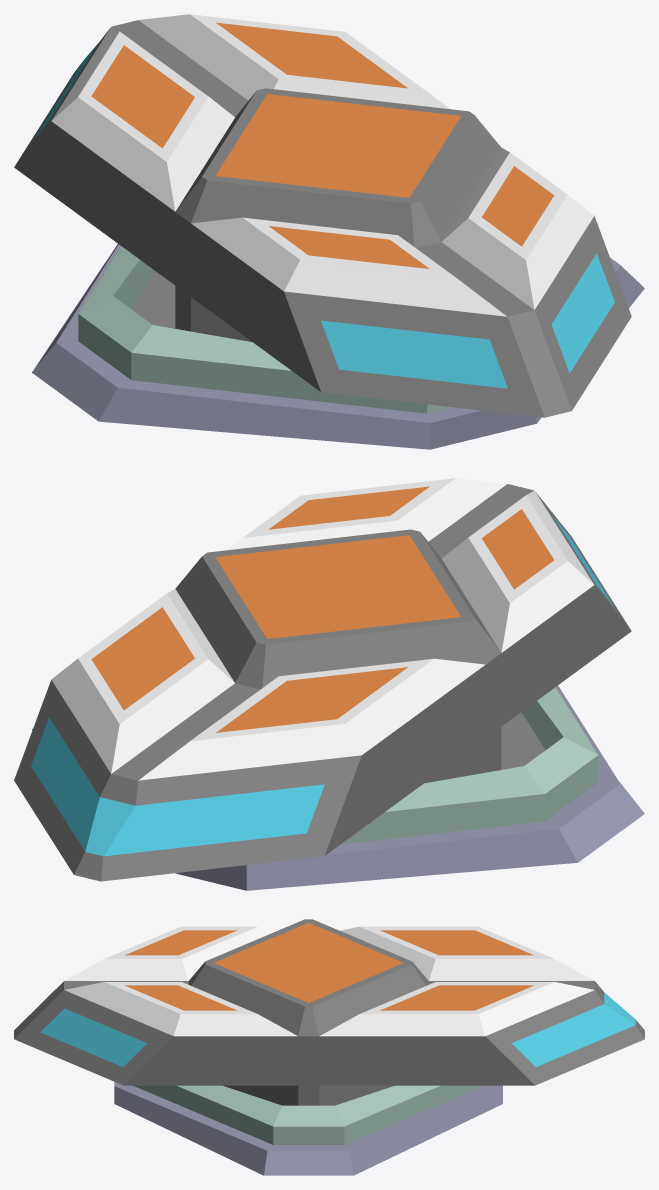
The model's file is Speedbooster.fbx.
3 views of the same model, one above another, from view 1: azimuth 30°, elevation 25°; view 2: azimuth 150°, elevation 25°; view 3: azimuth 270°, elevation 25° (orthographic). The views are drawn at different scales.
Parts seen in each view (by area): view 1: Cube.001; view 2: Cube.001; view 3: Cube.001.
Boxes of the visible parts, x1=… form: Cube.001: x1=14, y1=14, x2=644, y2=449; Cube.001: x1=14, y1=478, x2=644, y2=890; Cube.001: x1=14, y1=919, x2=644, y2=1175.
Bounding box in the file's own units: 2.54 × 0.8187 × 3.79.
